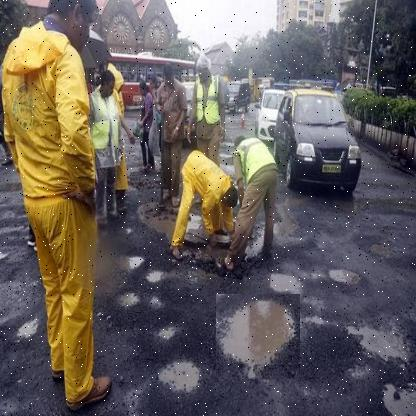pothole_water: (216, 294, 301, 380), (150, 350, 204, 396), (324, 253, 371, 298)
